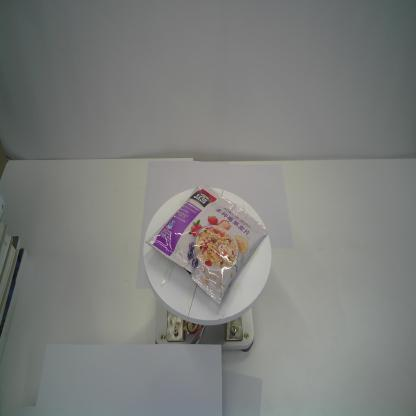Instant Drink: (145, 180, 268, 306)
